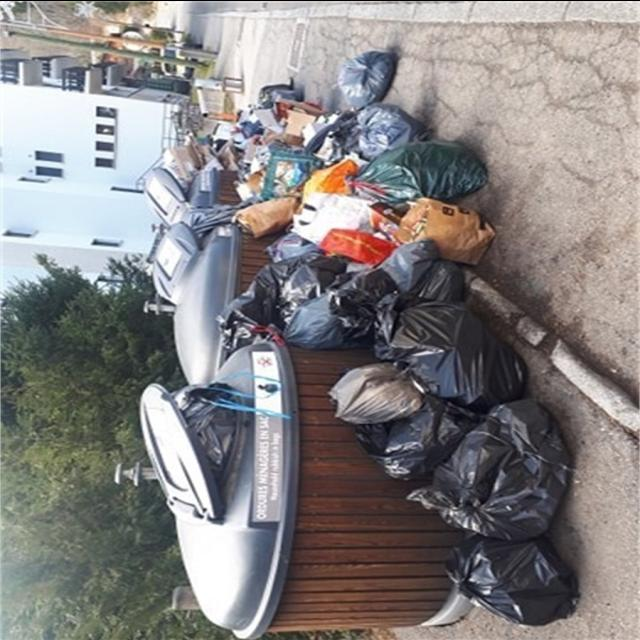garbage: (156, 34, 580, 640)
